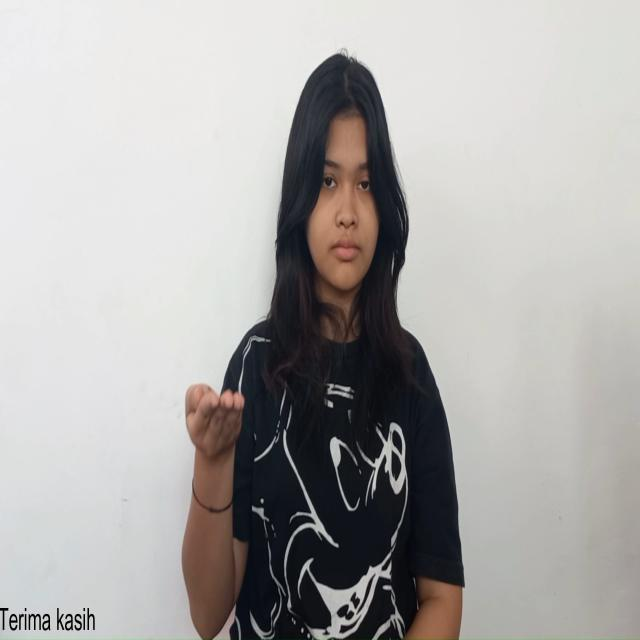Terima kasih -BISINDO-: (182, 378, 248, 472)
